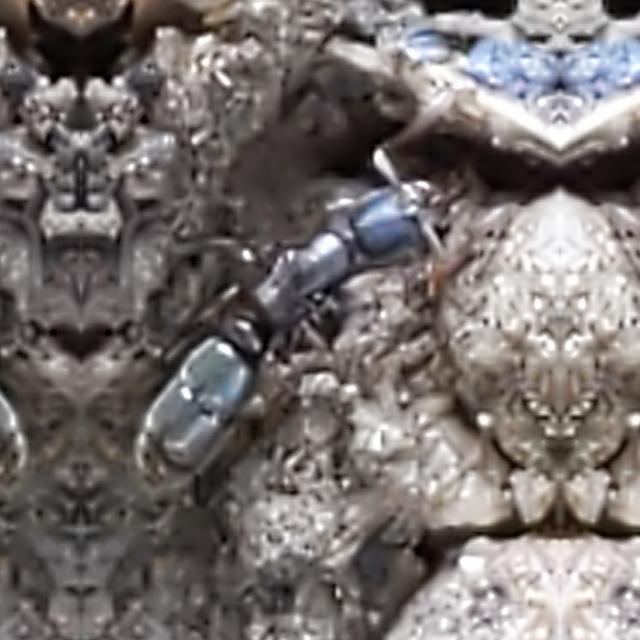Ponera: (80, 110, 498, 520)
